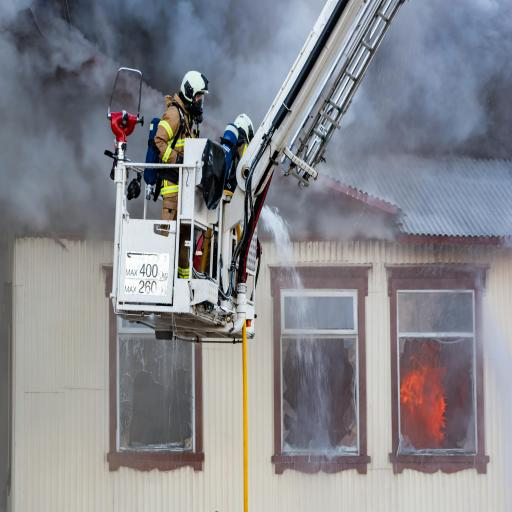buildingfire: (7, 218, 512, 511)
smoke: (0, 0, 512, 199)
